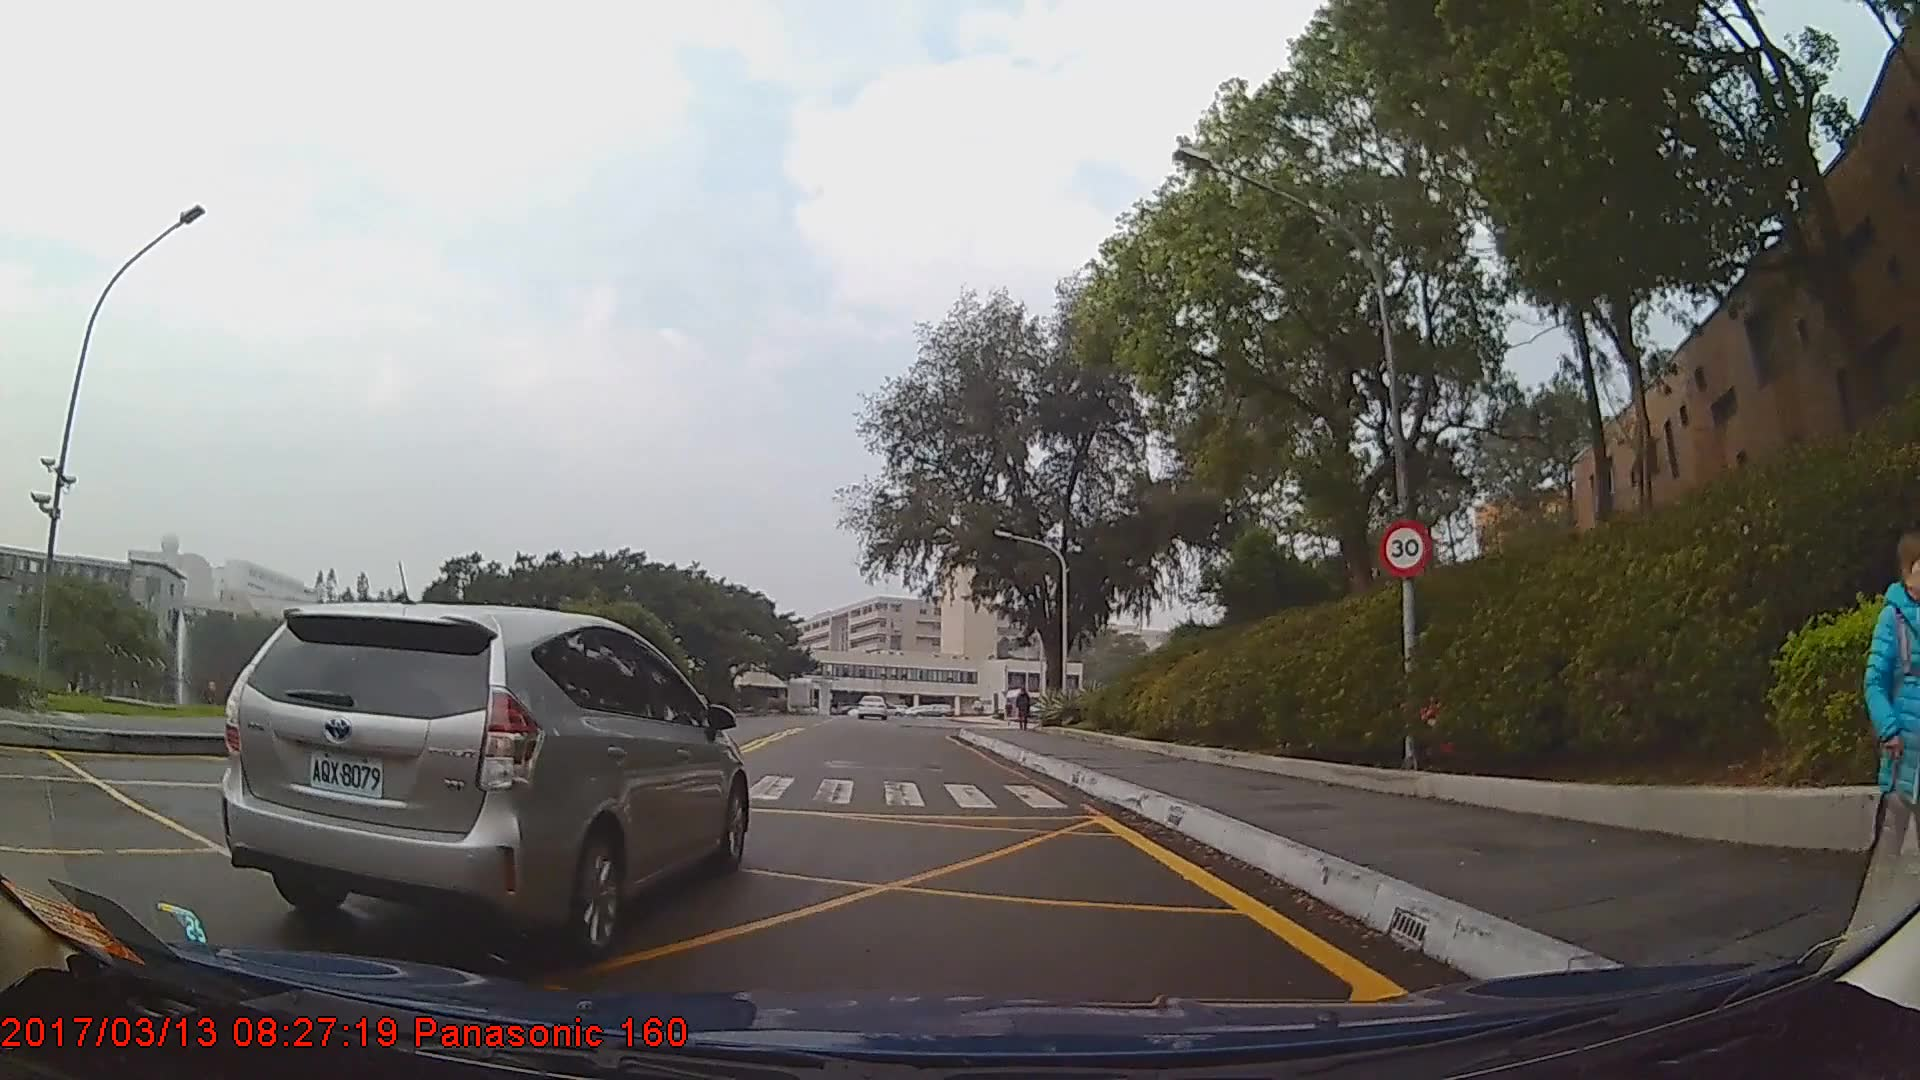pedestrian: (1014, 689, 1035, 734)
vehicle: (220, 597, 749, 961), (856, 691, 885, 718)
